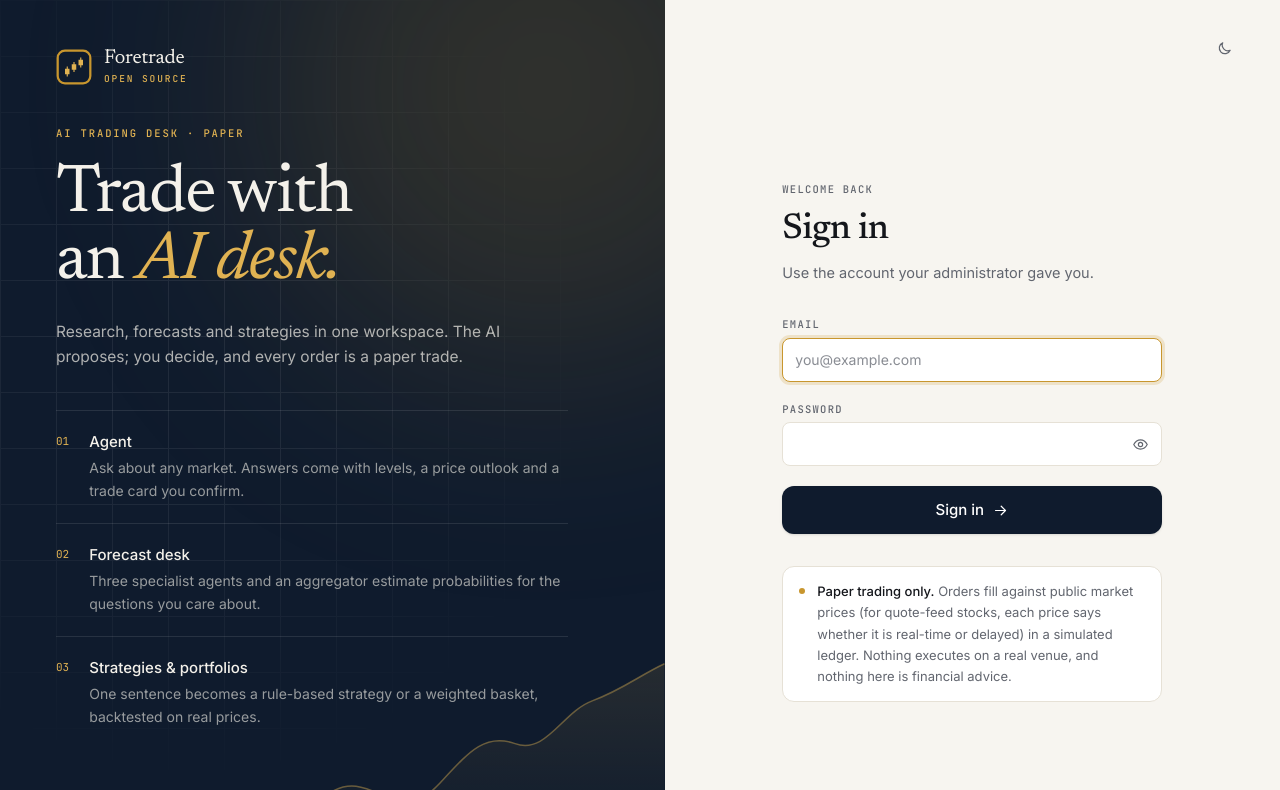
Test case: LoginPage › shows an inline error for {"name":"ApiError","status":429,"code":"rate_limited"}
The width and height of the screenshot is (1280, 790).
Type "demo@example.com" into the field labelled "Email" at (972, 360), box [782,338,1162,382]
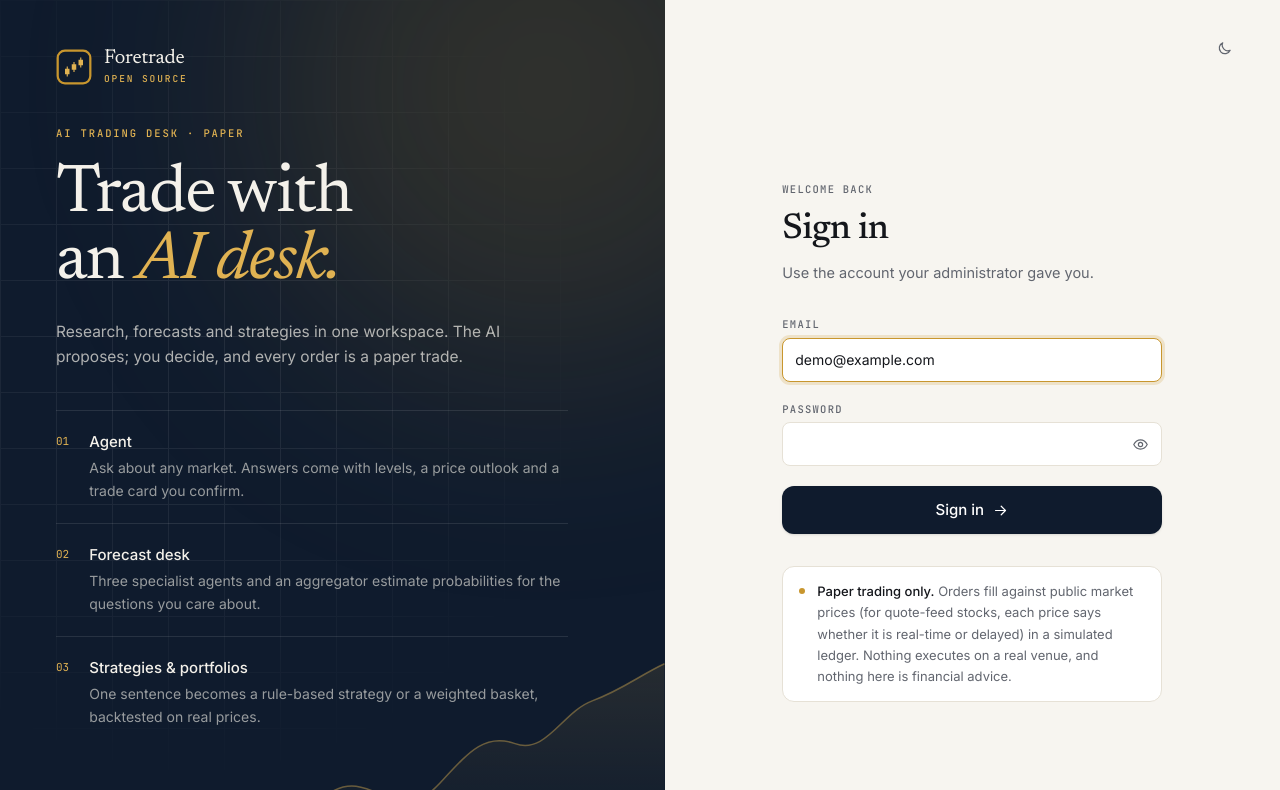
Type "localdemo" into the password field labelled "Password" at (972, 444), box [782,422,1162,466]
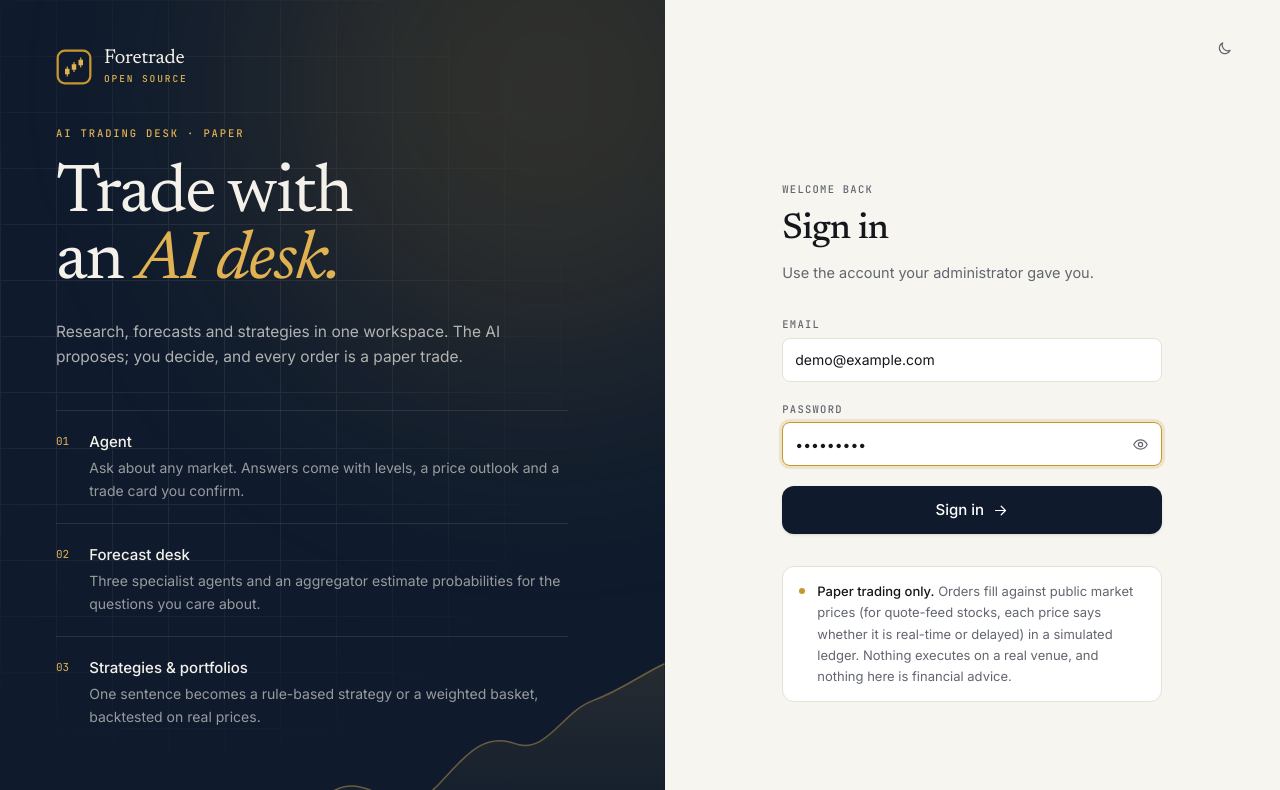
Click the button "Sign in" at (972, 510), box [782,486,1162,534]
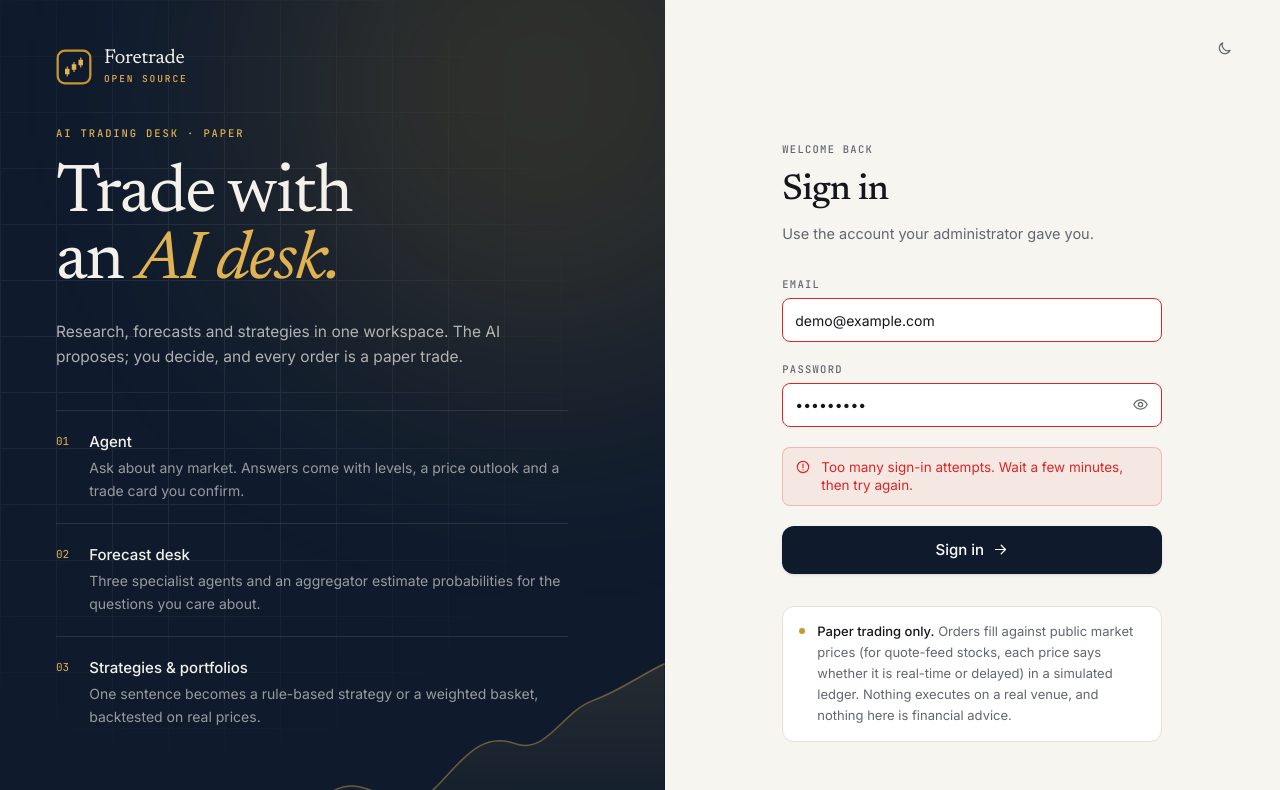
Expected: the button "Sign in" is enabled, [782,526,1162,574]
Expected: the message reads "Too many sign-in attempts. Wait a few minutes, then try again.", [821,459,1123,493]
